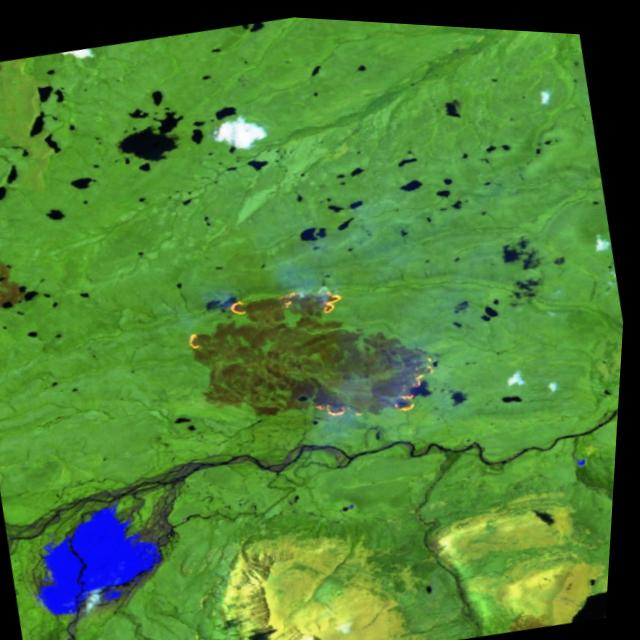fire: (166, 254, 453, 459)
